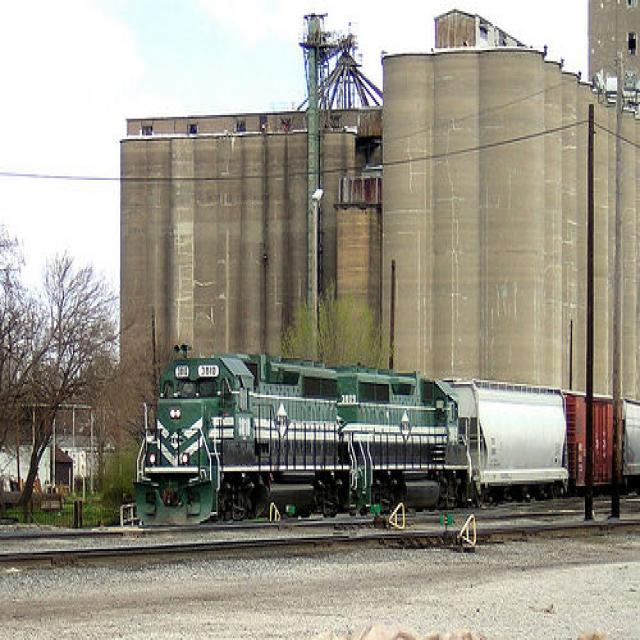hopper: (444, 374, 572, 511)
locomotive: (133, 333, 476, 543)
